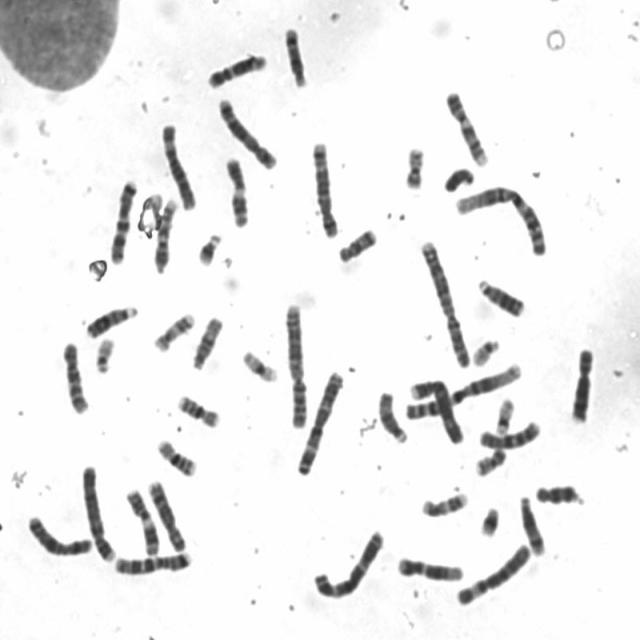A1: (450, 179, 551, 258), (402, 357, 524, 422)
A2: (416, 234, 474, 369), (281, 296, 311, 430)
A3: (292, 366, 346, 478), (309, 524, 388, 600)
B4: (405, 372, 466, 446), (78, 459, 118, 564)
B5: (214, 92, 279, 171), (307, 135, 341, 239)
C10: (58, 335, 92, 416), (475, 416, 543, 452)
C11: (122, 482, 162, 558), (222, 151, 252, 229)
C12: (202, 47, 269, 90), (394, 551, 466, 584)
C6: (452, 538, 534, 608), (157, 116, 199, 212)
C7: (106, 173, 139, 265), (110, 547, 194, 577)
C8: (144, 474, 190, 553), (566, 342, 598, 426)
C9: (442, 85, 491, 167), (150, 192, 179, 275)
D13: (474, 273, 528, 319), (82, 299, 139, 339)
D14: (515, 490, 548, 557), (281, 21, 310, 89)
D15: (188, 311, 225, 372), (374, 386, 409, 445)
E16: (153, 433, 199, 478), (173, 389, 222, 429)
E17: (150, 306, 198, 353), (417, 485, 470, 519)
E18: (334, 222, 380, 264), (534, 482, 585, 507)
F19: (238, 344, 280, 384), (491, 392, 518, 437)
F20: (470, 441, 509, 478), (400, 140, 427, 190)
G21: (194, 227, 224, 268), (476, 501, 502, 538)
G22: (468, 333, 502, 368), (90, 332, 117, 375)
X: (23, 509, 95, 558)
Y: (440, 161, 477, 193)
